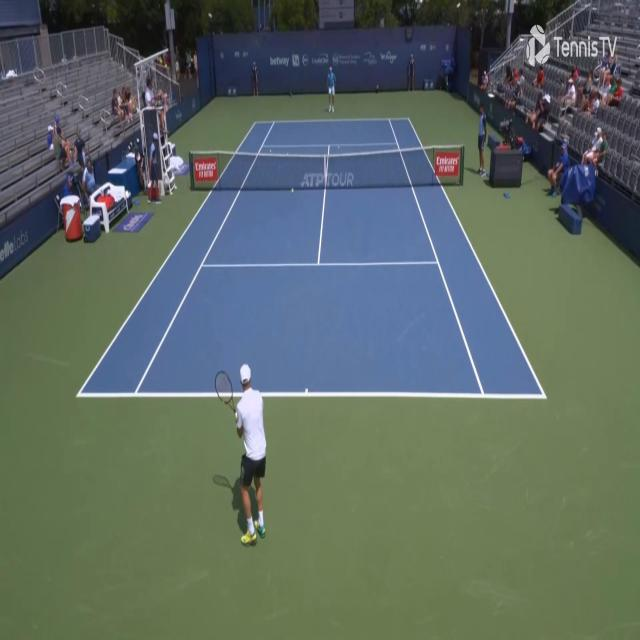tennis-player: (210, 360, 272, 550), (325, 64, 337, 114)
